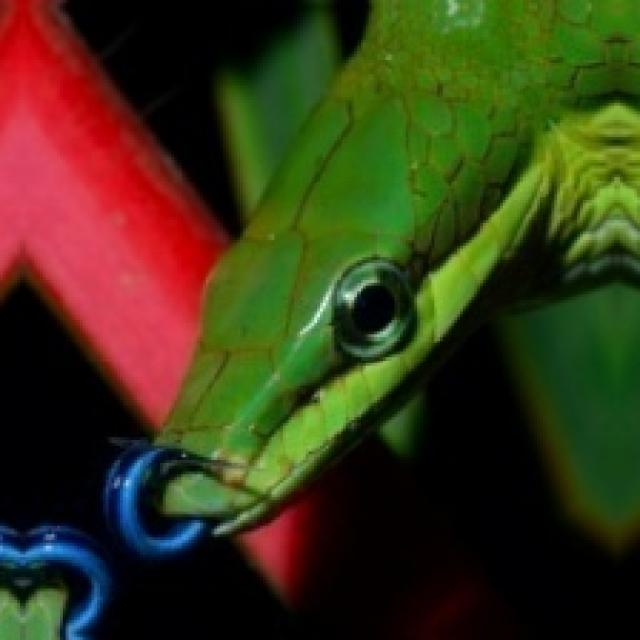red-tailed green ratsnake: (108, 3, 640, 558), (151, 0, 637, 531)
